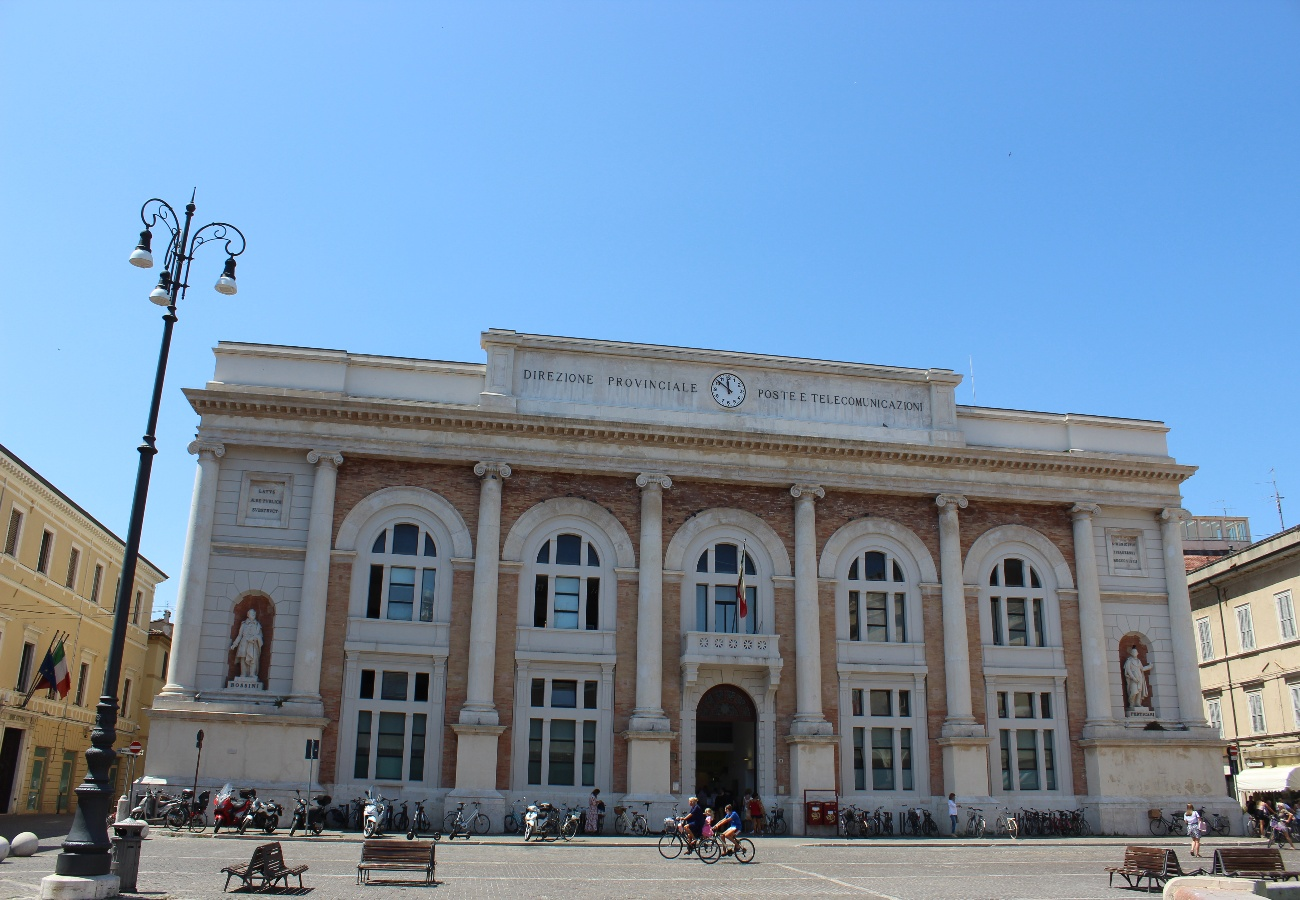Palazzo delle Poste: (180, 329, 1232, 831)
